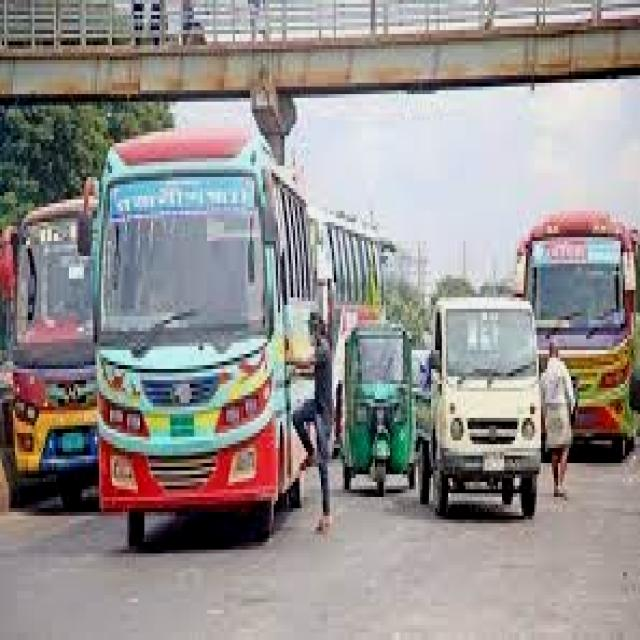bus: (80, 121, 303, 549), (2, 190, 102, 486), (522, 219, 636, 455), (307, 193, 391, 340)
